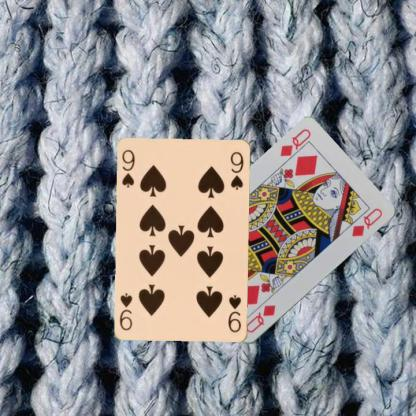9s: (225, 293, 243, 334), (120, 148, 136, 190)
Qd: (278, 126, 312, 166), (242, 302, 276, 335)
